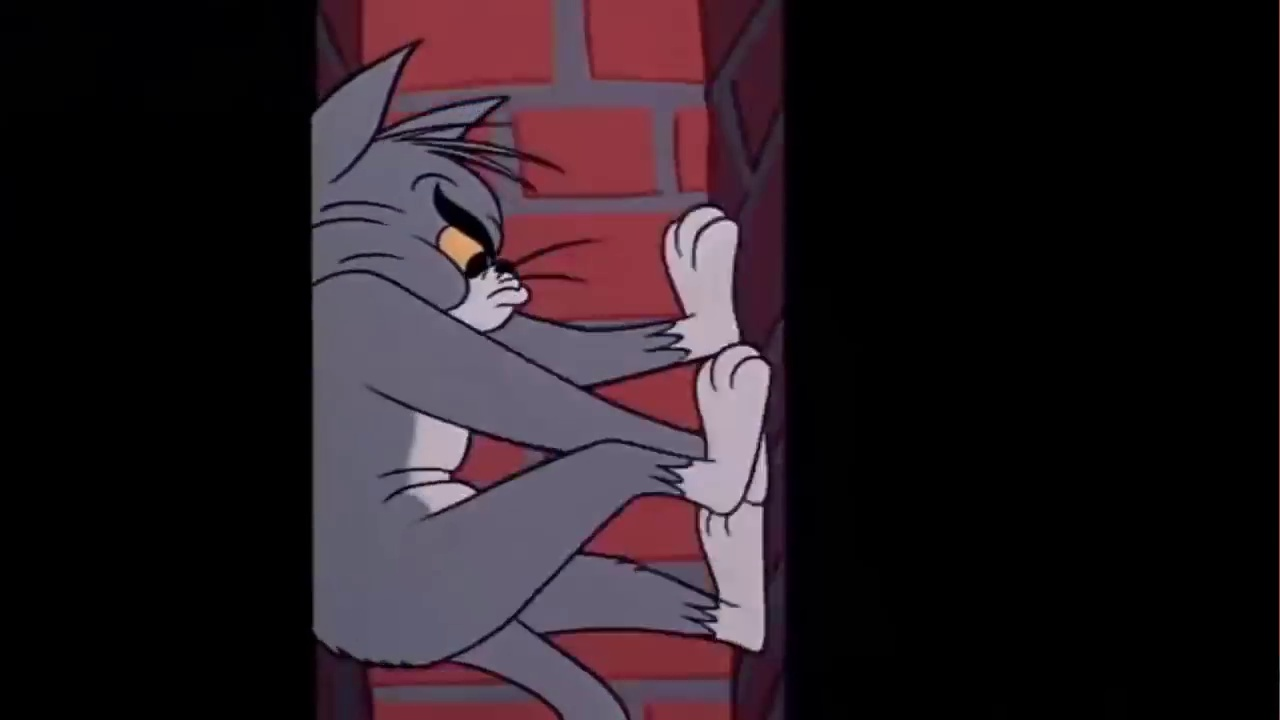face: (410, 166, 536, 336)
